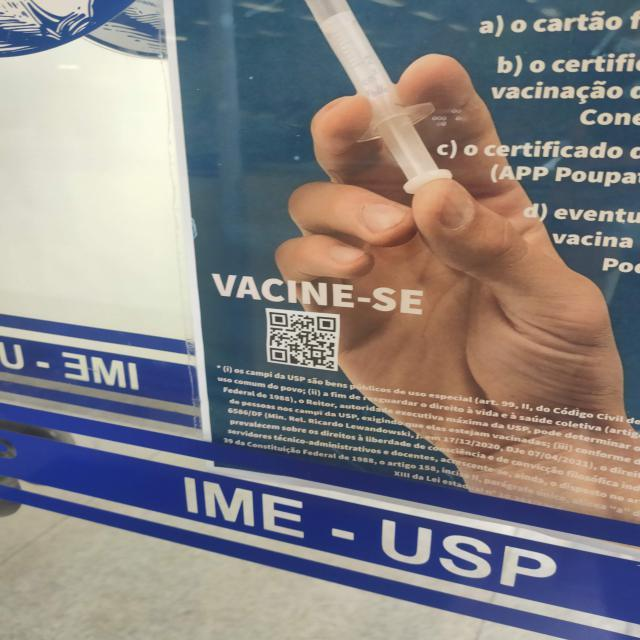qrcode: (271, 313, 336, 370)
